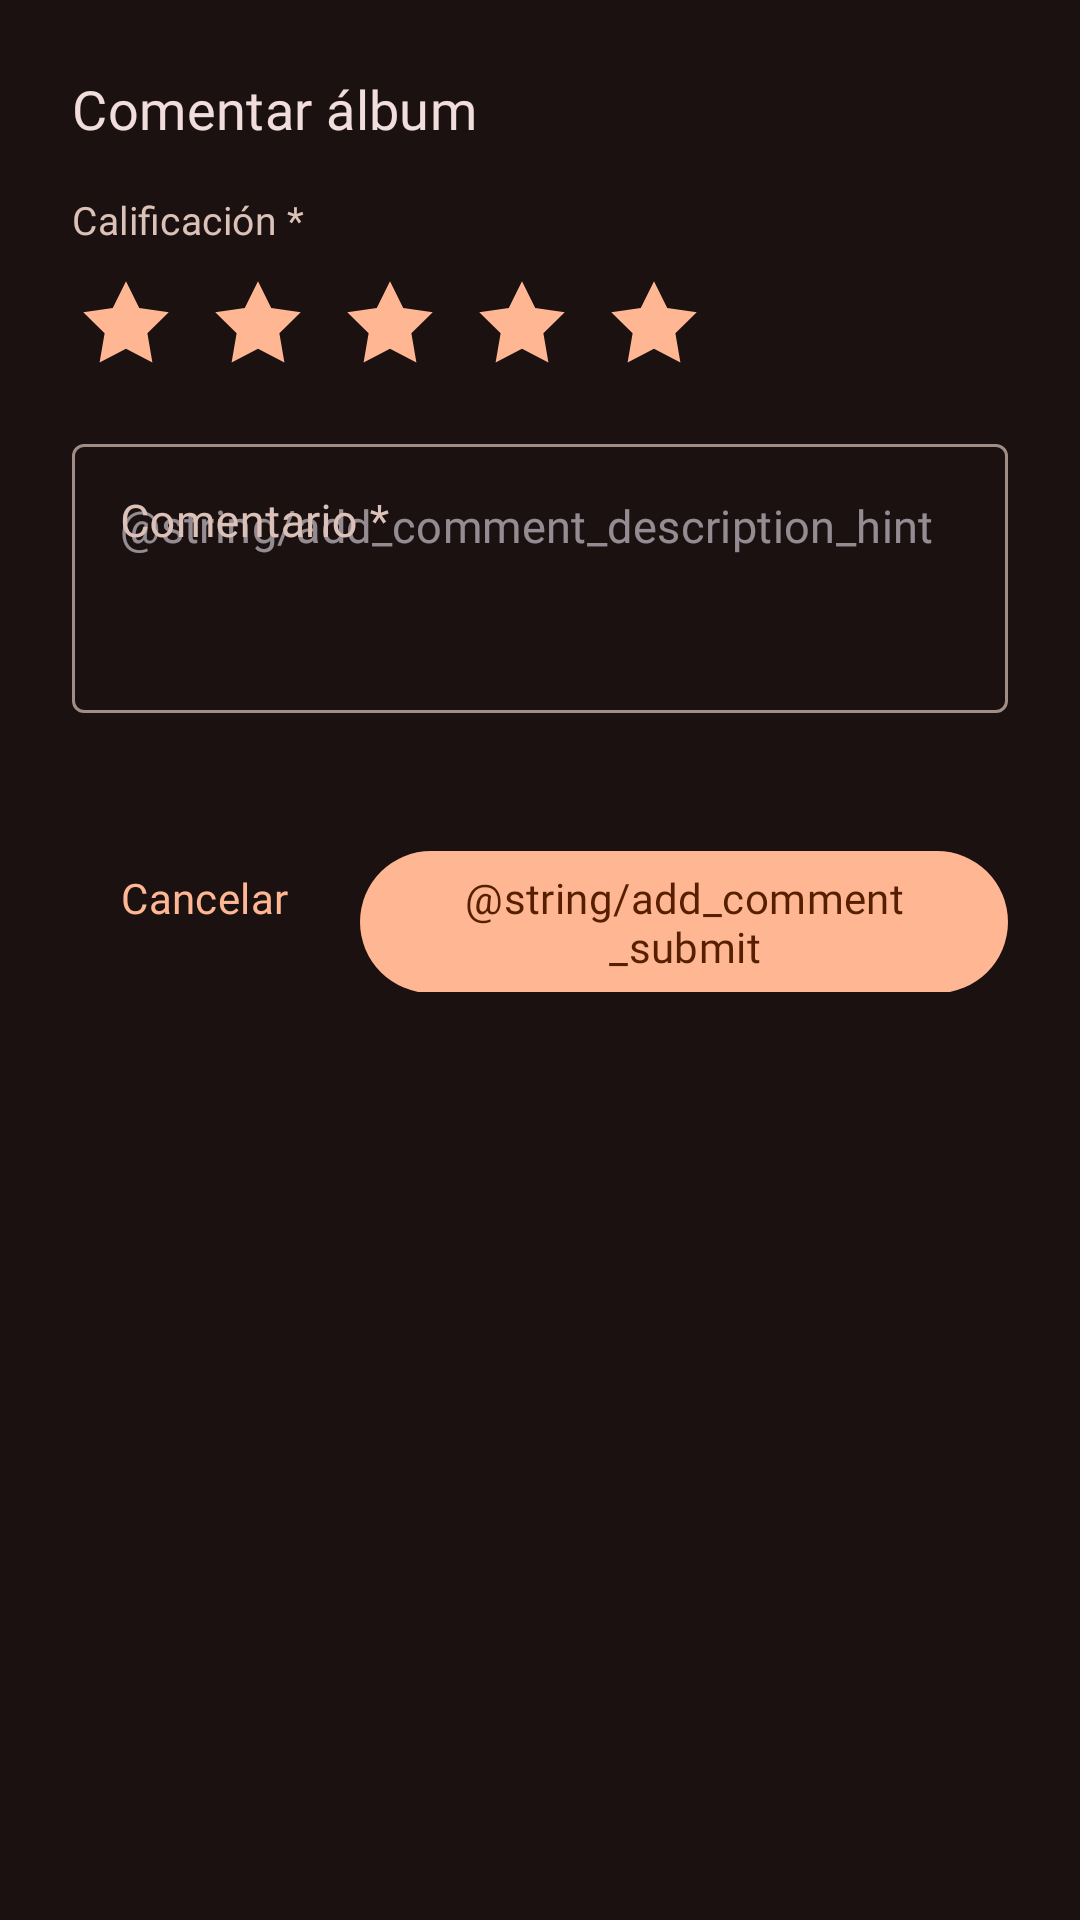

Point at icon controls on the screen. Image size 1080×1920, points as [x,y].
1 estrella: [126,322]
2 estrellas: [258,322]
3 estrellas: [390,322]
4 estrellas: [522,322]
5 estrellas: [654,322]
